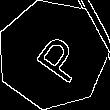P_NW: (21, 25, 85, 84)
